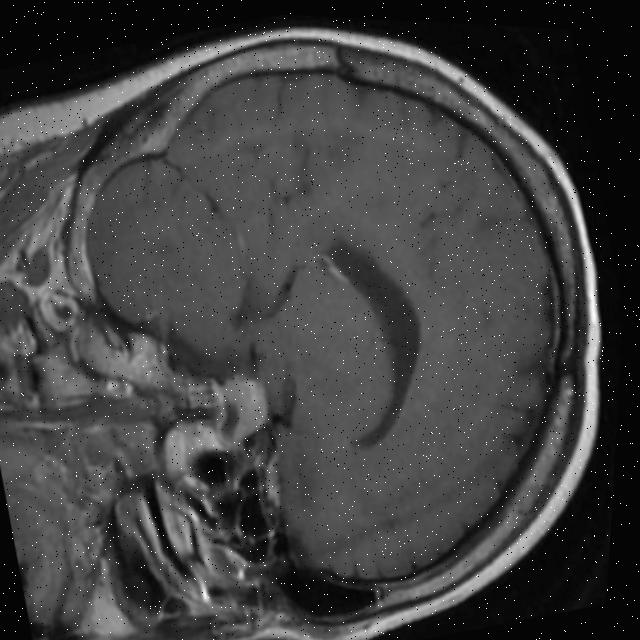Pituitary: (213, 368, 278, 447)
